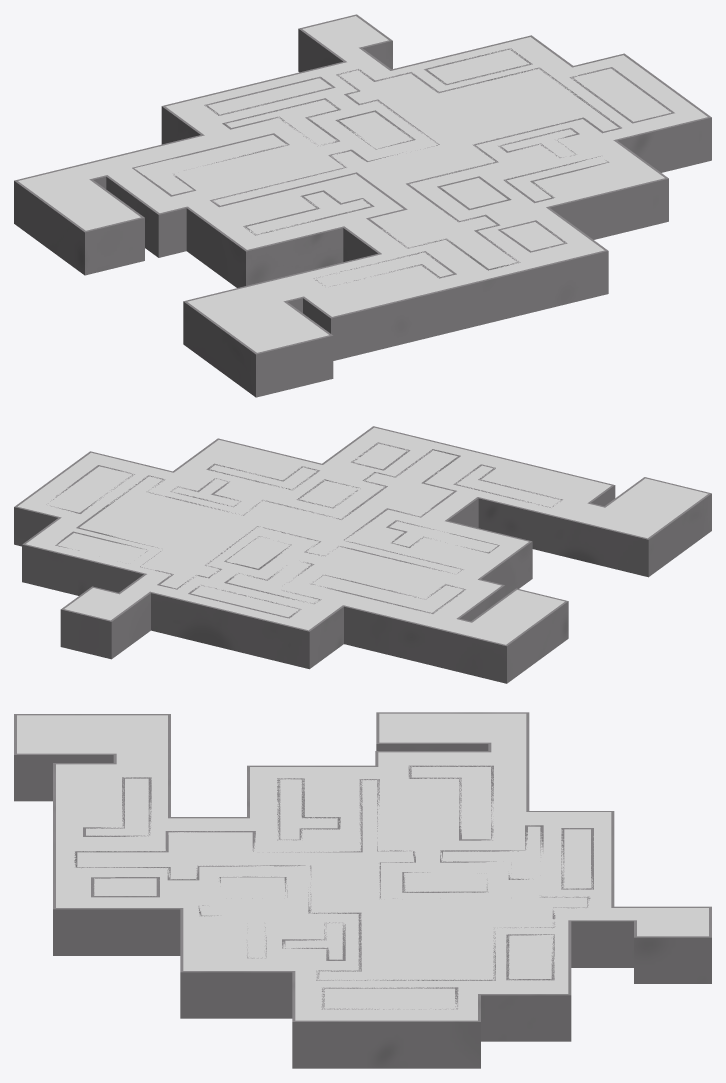
Rendered from Basement1.fbx.
The picture shows the model from 3 angles, top to bottom: view 1: azimuth 30°, elevation 25°; view 2: azimuth 150°, elevation 25°; view 3: azimuth 270°, elevation 25°; orthographic projection. The views are drawn at different scales.
Visible parts, largest first — view 1: Ceiling, Room; view 2: Ceiling, Room; view 3: Ceiling, Room.
Part boxes in pixels (x1,y1,x2,y2): Ceiling: (18, 16, 707, 352); Room: (14, 14, 711, 397); Ceiling: (18, 427, 708, 644); Room: (14, 426, 711, 683); Ceiling: (17, 713, 708, 1020); Room: (14, 712, 711, 1068).
Size of the model in its own units: 714 by 50 by 680.
